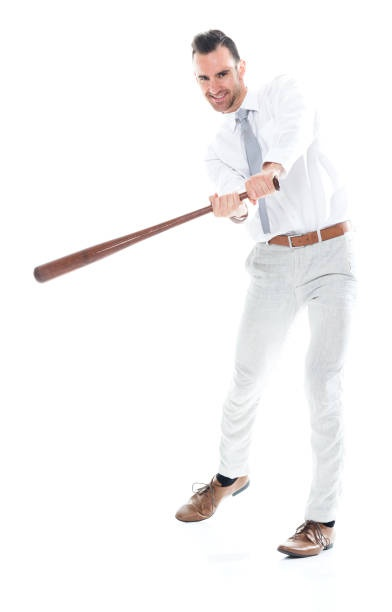bita: (28, 176, 296, 290)
